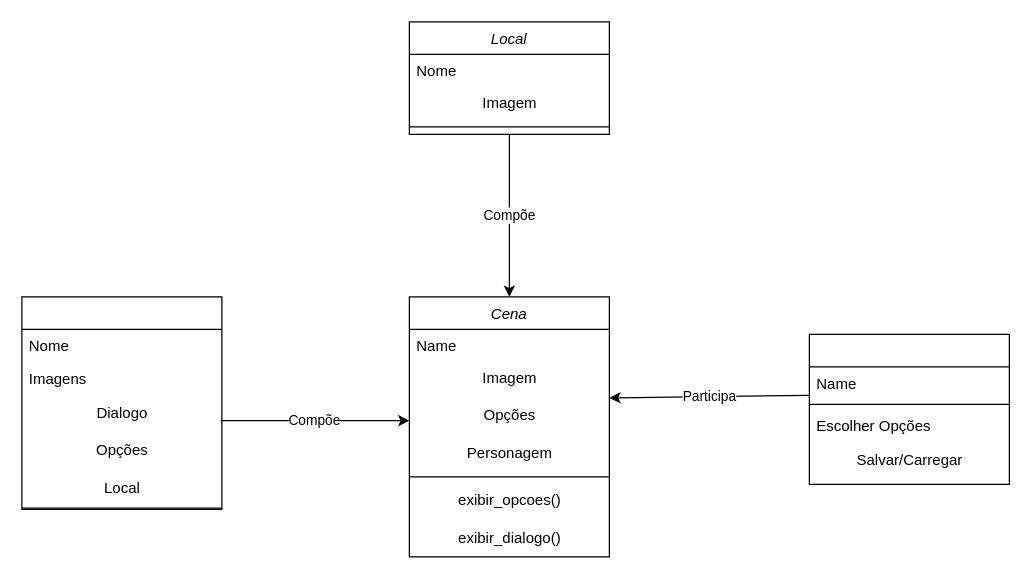
The diagram is 1031 pixels wide and 579 high, and some of its shapes have lost their labels. The box of each missing label's shape, as (x1, y1, x2, y2) in pixels:
Jogador: (808, 333, 1009, 484)
Personagens: (21, 296, 222, 509)
